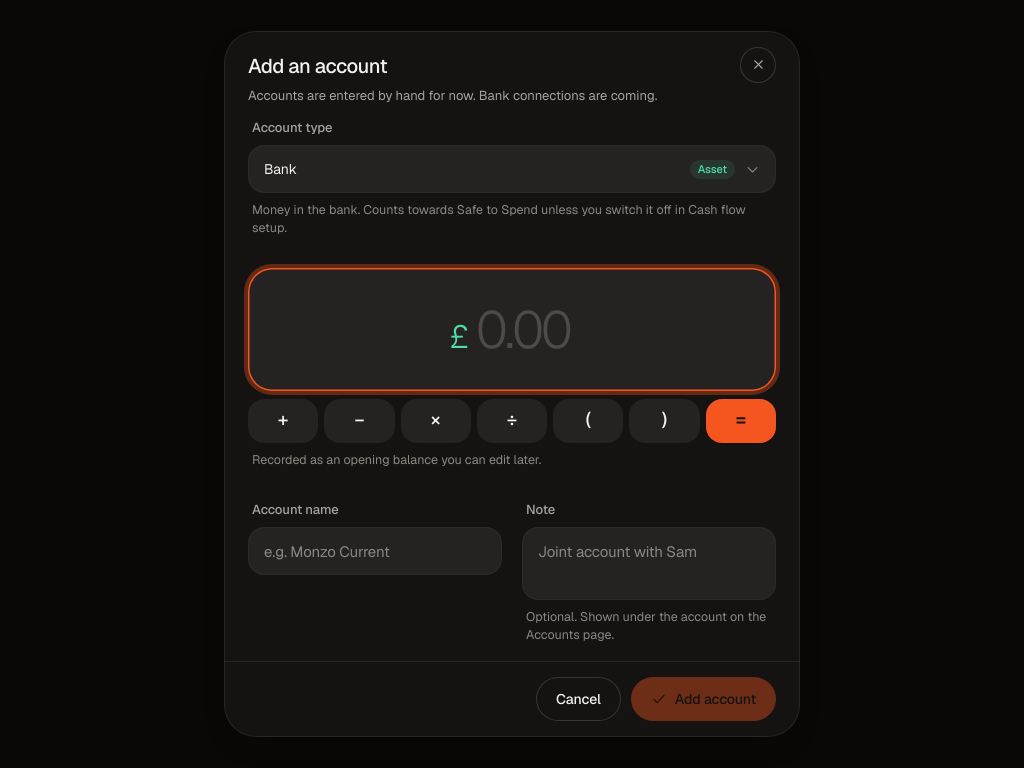
Test: the one question about what an account is › says which side of the balance sheet each half is, and which side the choice is on
Click the dropdown named "Account type".
click(280, 169)  # box [248,145,776,193]
(page scrolled)
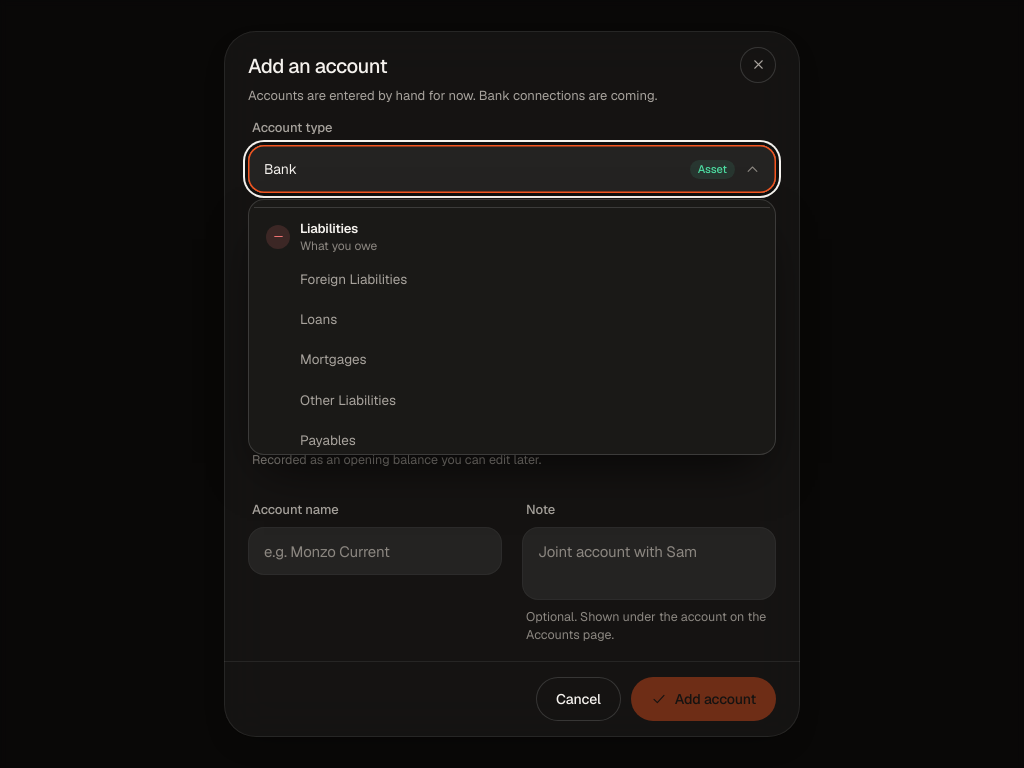
Check: the text "What you own" is shown, box [300,238,378,254]
Check: the text "What you owe" is shown, box [300,238,377,254]
Click the option "Mortgages".
click(333, 359)  # box [300,350,366,368]
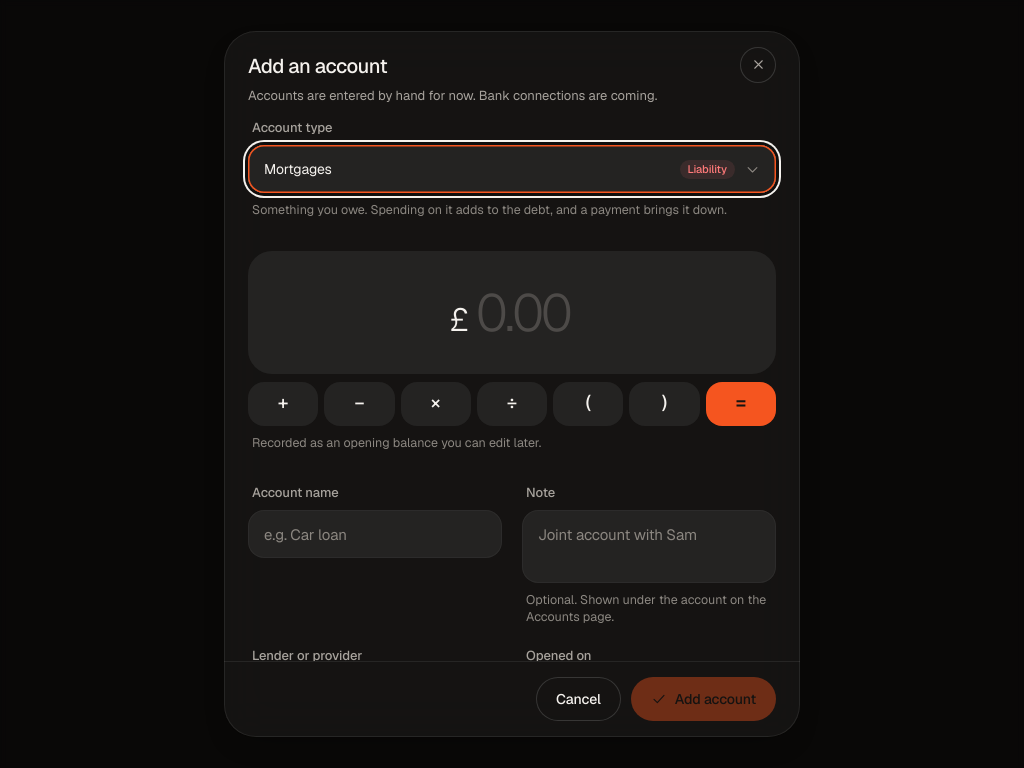
Check: the dropdown named "Account type" shows "Liability", box [248,145,776,193]
